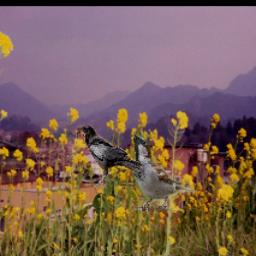Crow: (70, 123, 144, 188)
Sparrow: (132, 134, 194, 211)
